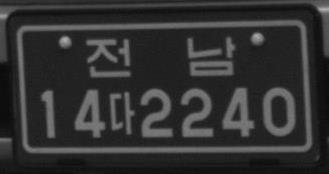0: (261, 85, 296, 138)
1: (34, 88, 63, 138)
2: (179, 86, 215, 138), (138, 87, 173, 139)
4: (220, 85, 256, 138), (72, 88, 106, 138)
다: (108, 89, 135, 135)
전남_D: (85, 35, 236, 78)
